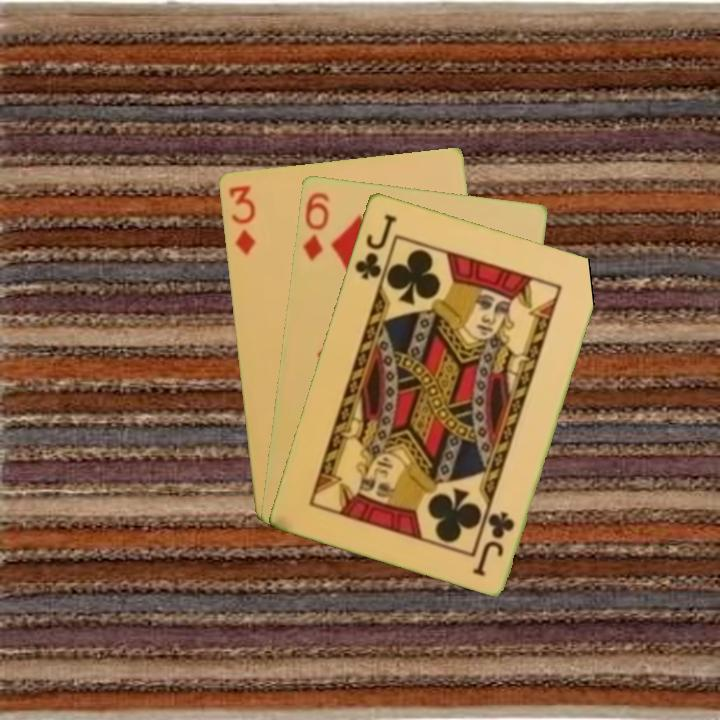3d: (225, 181, 258, 258)
6d: (299, 188, 332, 264)
Jc: (351, 210, 399, 282), (470, 507, 518, 579)
